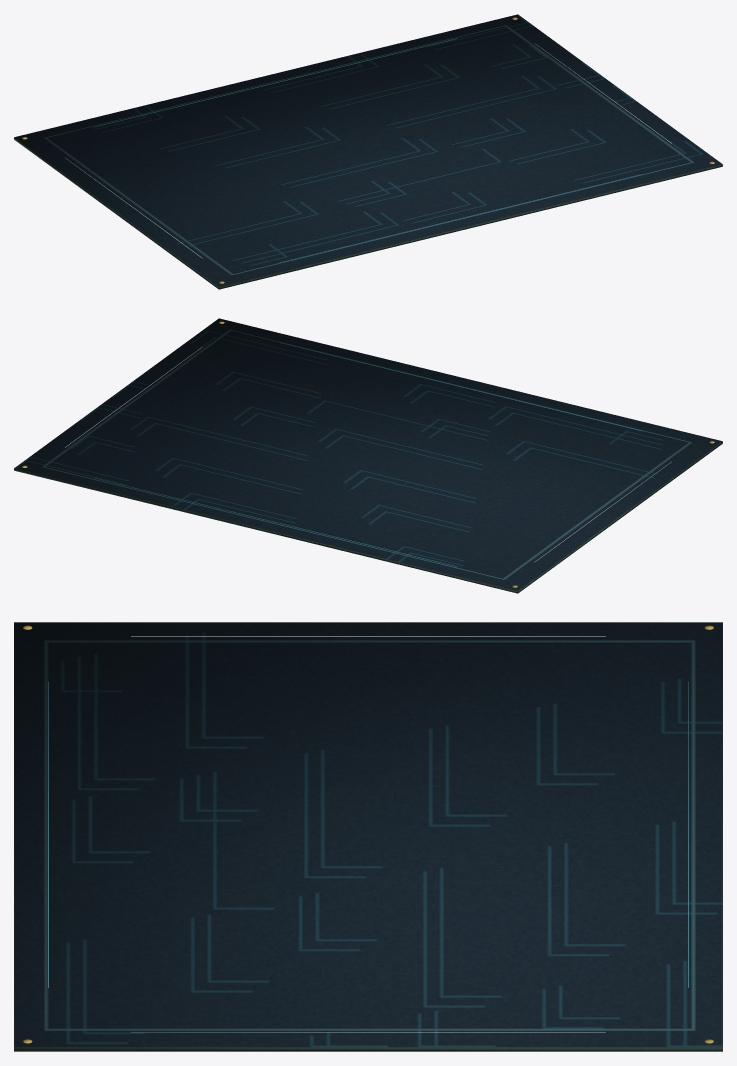
The model's file is 209_L116_PCB_Main.obj.
The picture shows the model from 3 angles, top to bottom: view 1: azimuth 30°, elevation 25°; view 2: azimuth 150°, elevation 25°; view 3: azimuth 270°, elevation 25°; orthographic projection. The views are drawn at different scales.
Visible parts, largest first — view 1: L116_001__PSMAT__PCB_Carbon, L116_000__PSMAT__FR4_Core; view 2: L116_001__PSMAT__PCB_Carbon, L116_000__PSMAT__FR4_Core; view 3: L116_001__PSMAT__PCB_Carbon, L116_000__PSMAT__FR4_Core.
Part boxes in pixels (<box>): L116_001__PSMAT__PCB_Carbon: <box>14,14,722,286</box>; L116_000__PSMAT__FR4_Core: <box>14,23,722,289</box>; L116_001__PSMAT__PCB_Carbon: <box>14,318,722,590</box>; L116_000__PSMAT__FR4_Core: <box>14,327,722,593</box>; L116_001__PSMAT__PCB_Carbon: <box>14,622,722,1047</box>; L116_000__PSMAT__FR4_Core: <box>14,622,722,1051</box>.
Bounding box in the file's own units: 0.44 × 0.00217 × 0.31.
Materials: 5 (5 with a texture image).
